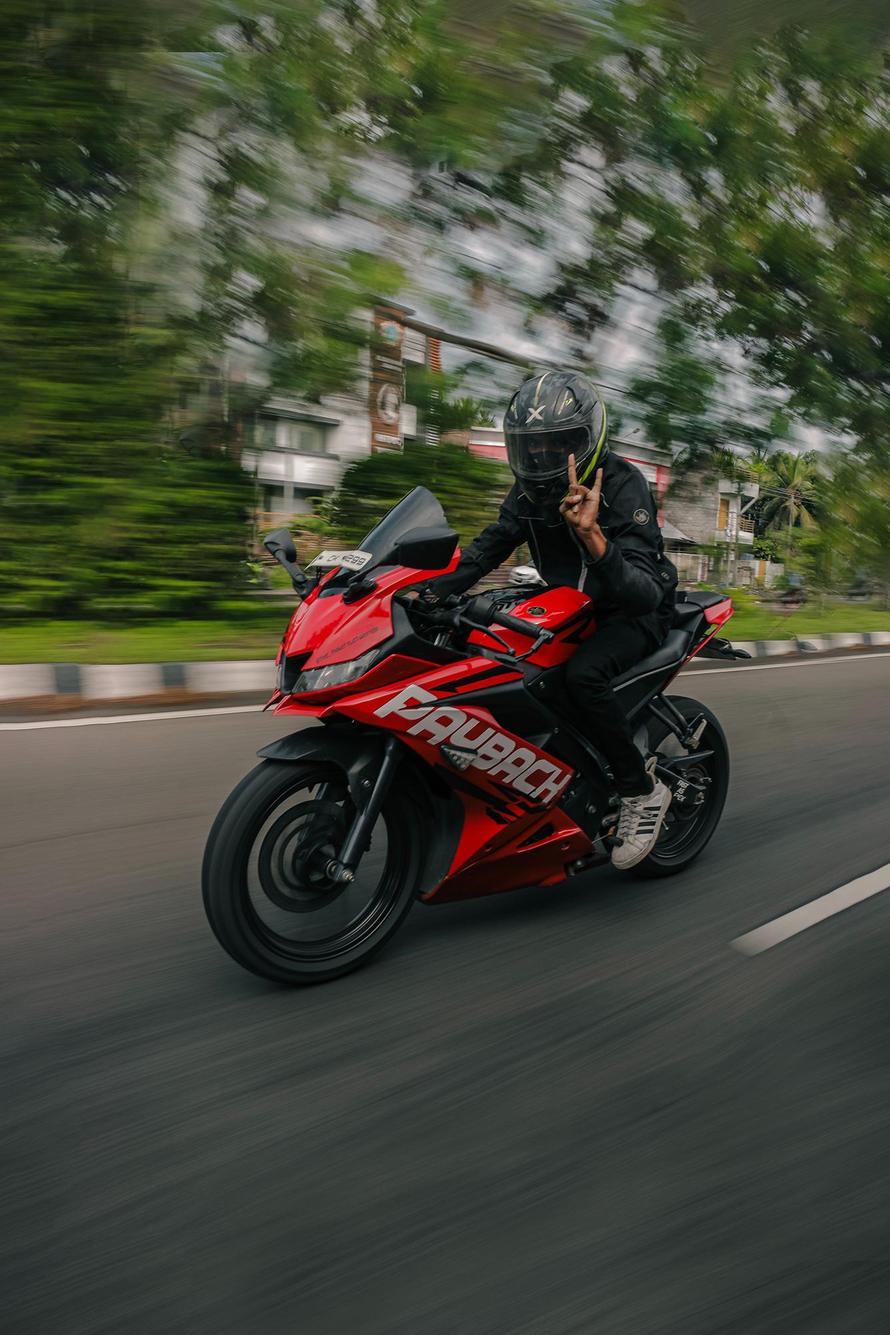helmet: (503, 370, 609, 511)
